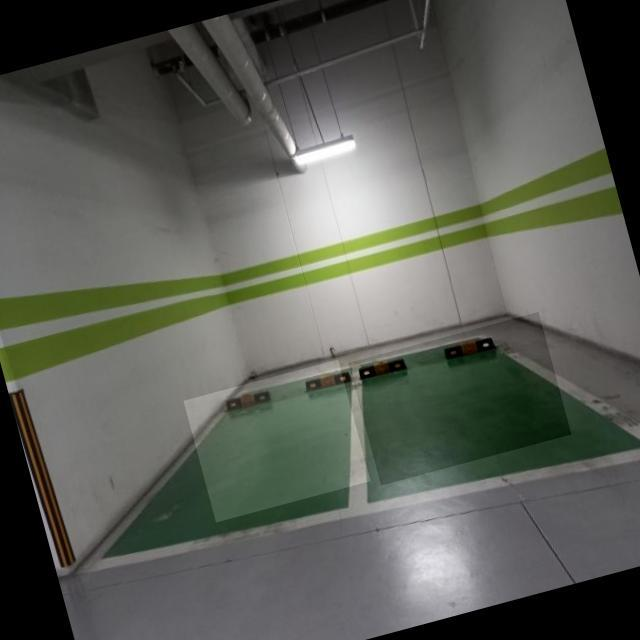empty: (348, 311, 571, 485), (183, 359, 370, 522)
